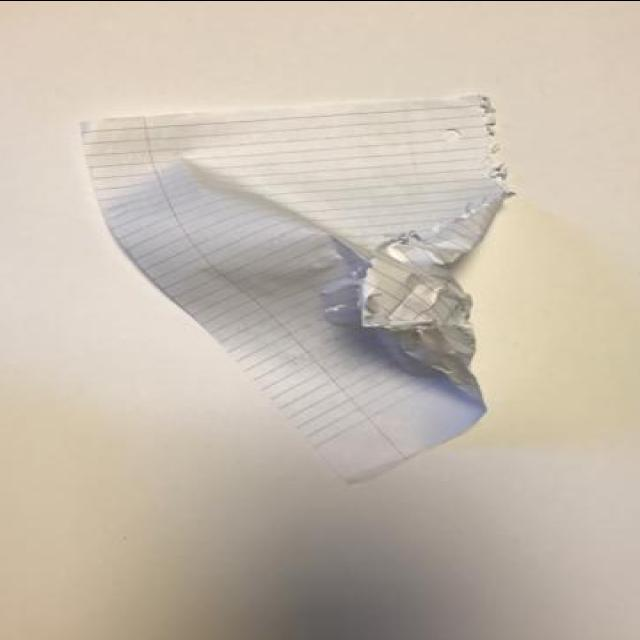kertas: (75, 88, 508, 485)
